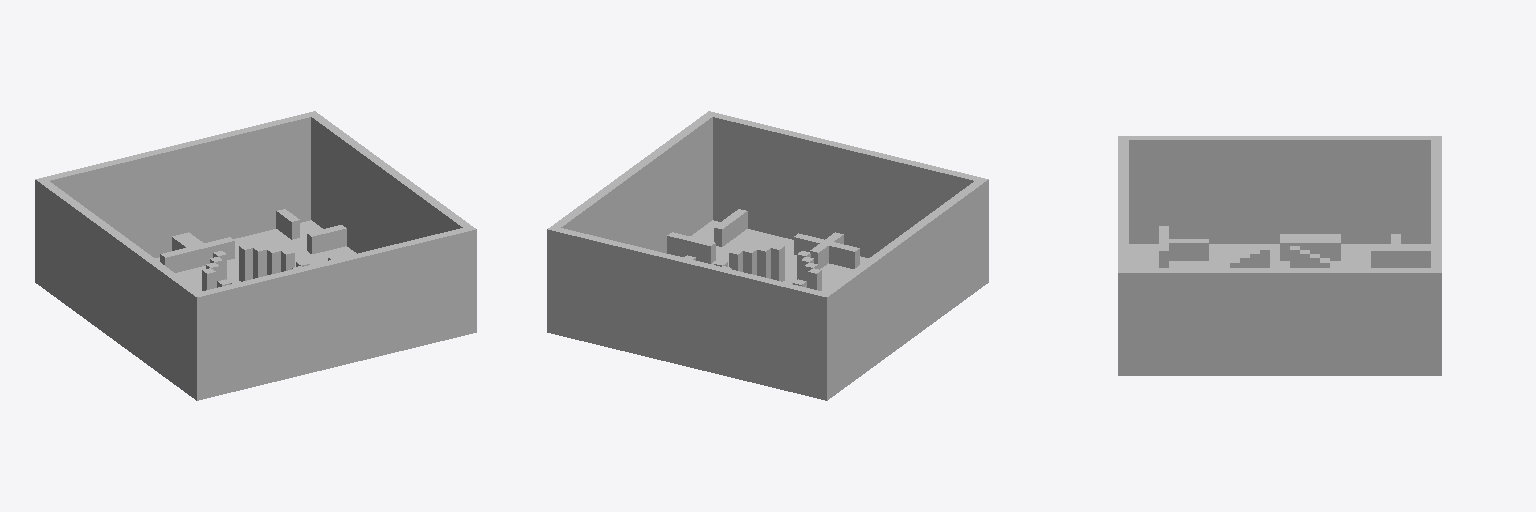
The model's file is arena_texture_test.obj.
3 views of the same model, side by side, from view 1: azimuth 30°, elevation 25°; view 2: azimuth 150°, elevation 25°; view 3: azimuth 270°, elevation 25° (orthographic).
Visible parts, largest first — view 1: Plane.001; view 2: Plane.001; view 3: Plane.001.
Part boxes in pixels (bbox=[...]): Plane.001: bbox=[35, 111, 476, 400]; Plane.001: bbox=[547, 111, 988, 400]; Plane.001: bbox=[1118, 136, 1441, 375].
Size of the model in its own units: 372 by 131 by 372.